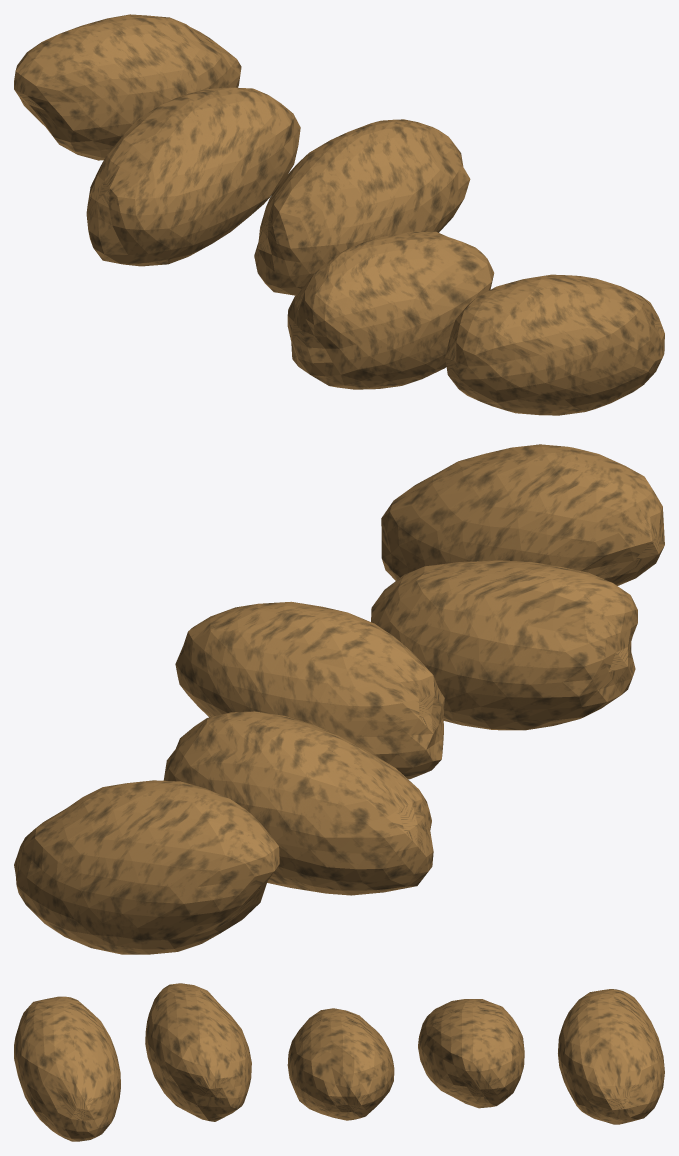
The model's file is potatoes OBJ.obj.
The picture shows the model from 3 angles, top to bottom: view 1: azimuth 30°, elevation 25°; view 2: azimuth 150°, elevation 25°; view 3: azimuth 270°, elevation 25°; orthographic projection. The views are drawn at different scales.
Parts seen in each view (by area): view 1: PotatoB, PotatoE, PotatoD, PotatoC, PotatoA; view 2: PotatoA, PotatoD, PotatoB, PotatoC, PotatoE; view 3: PotatoE, PotatoA, PotatoD, PotatoC, PotatoB.
Boxes of the visible parts, x1=… form: PotatoB: x1=86, y1=87, x2=300, y2=266; PotatoE: x1=445, y1=274, x2=664, y2=415; PotatoD: x1=287, y1=231, x2=494, y2=389; PotatoC: x1=254, y1=119, x2=470, y2=295; PotatoA: x1=14, y1=14, x2=241, y2=160; PotatoA: x1=14, y1=780, x2=279, y2=954; PotatoD: x1=371, y1=560, x2=637, y2=730; PotatoB: x1=163, y1=711, x2=433, y2=895; PotatoC: x1=175, y1=601, x2=444, y2=779; PotatoE: x1=381, y1=444, x2=664, y2=585; PotatoE: x1=14, y1=996, x2=120, y2=1141; PotatoA: x1=558, y1=989, x2=664, y2=1124; PotatoD: x1=145, y1=983, x2=251, y2=1121; PotatoC: x1=287, y1=1008, x2=394, y2=1120; PotatoB: x1=418, y1=999, x2=524, y2=1108.
Bounding box in the file's own units: 14.69 × 7.36 × 38.3.
Materials: 1 (1 with a texture image).
